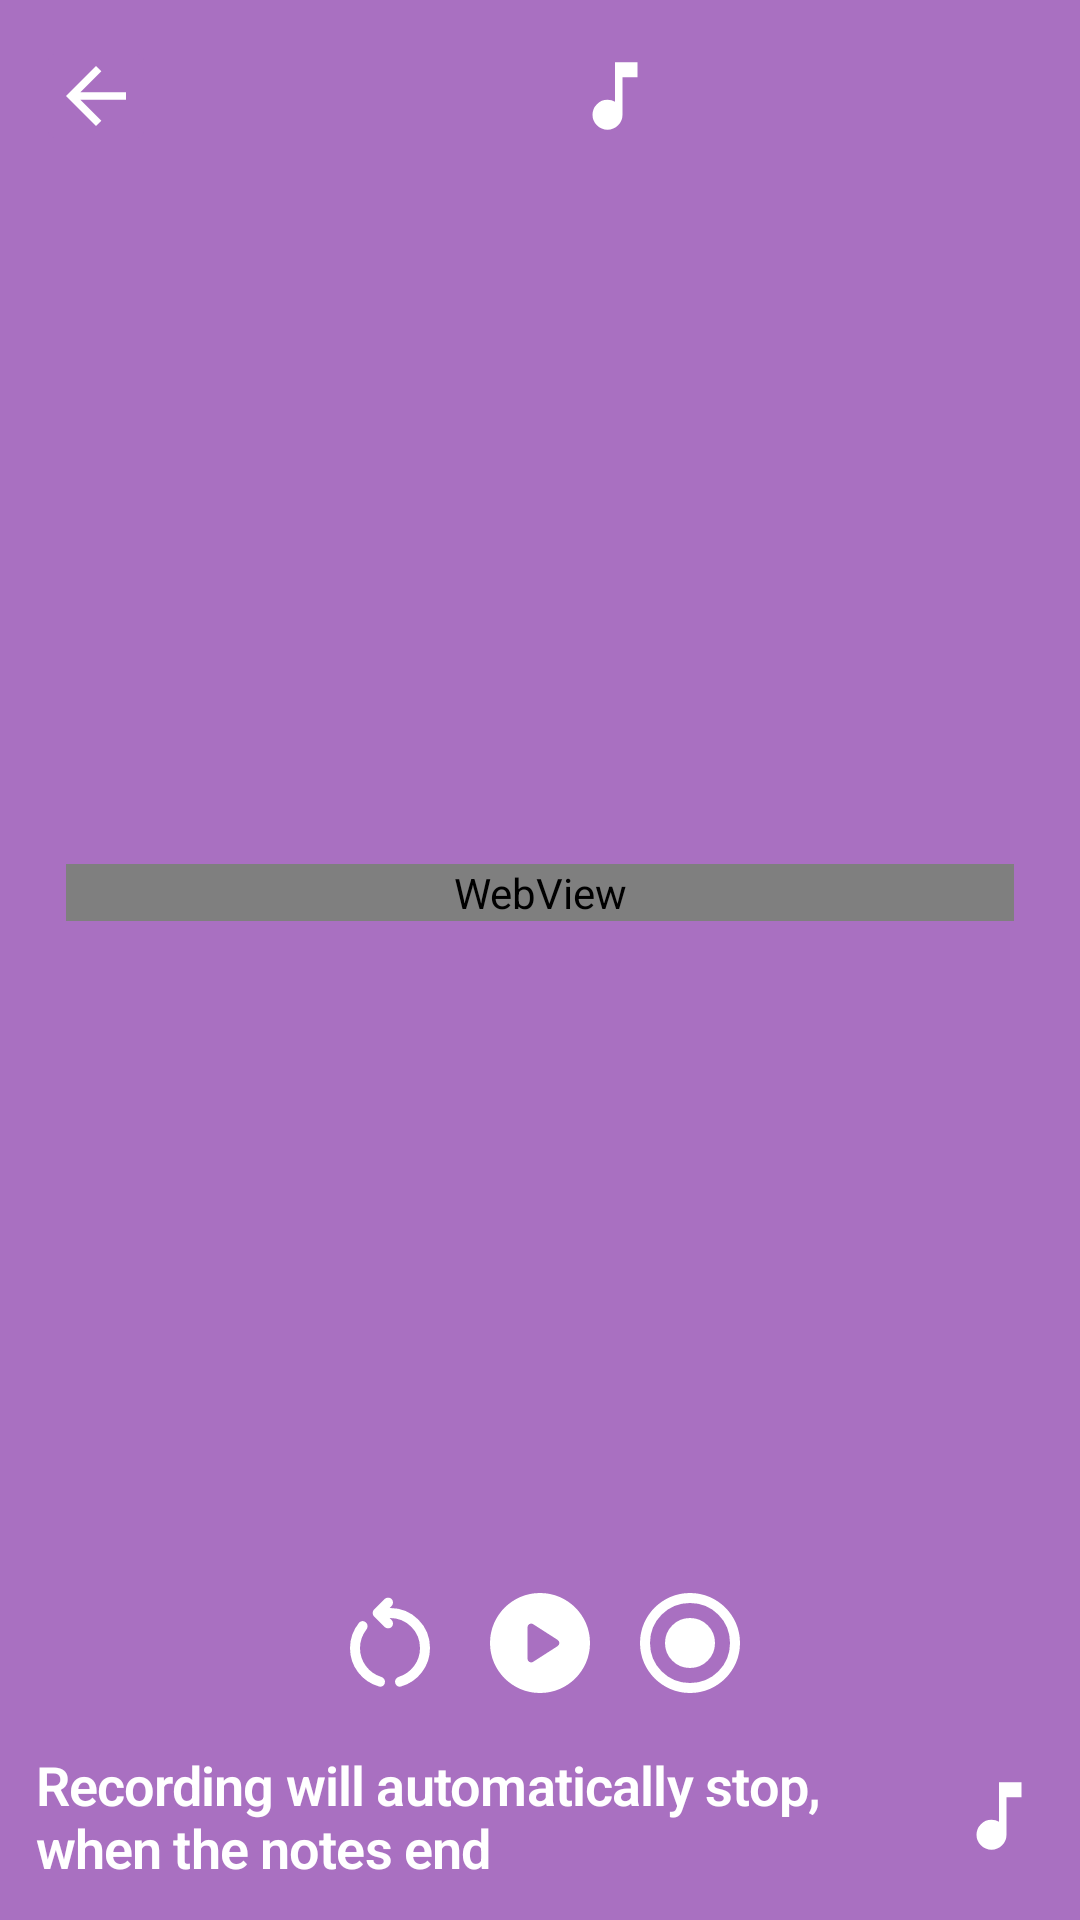

Named icons in this screenshot (1080w x 1920h) and their bounding boxes, [left=x1, top=y1, right=x2, bottom=y2]:
arrow back: [left=66, top=66, right=126, bottom=126]
play circle: [left=490, top=1593, right=590, bottom=1693]
radio checked: [left=640, top=1593, right=740, bottom=1693]
restart: [left=350, top=1597, right=430, bottom=1687]
